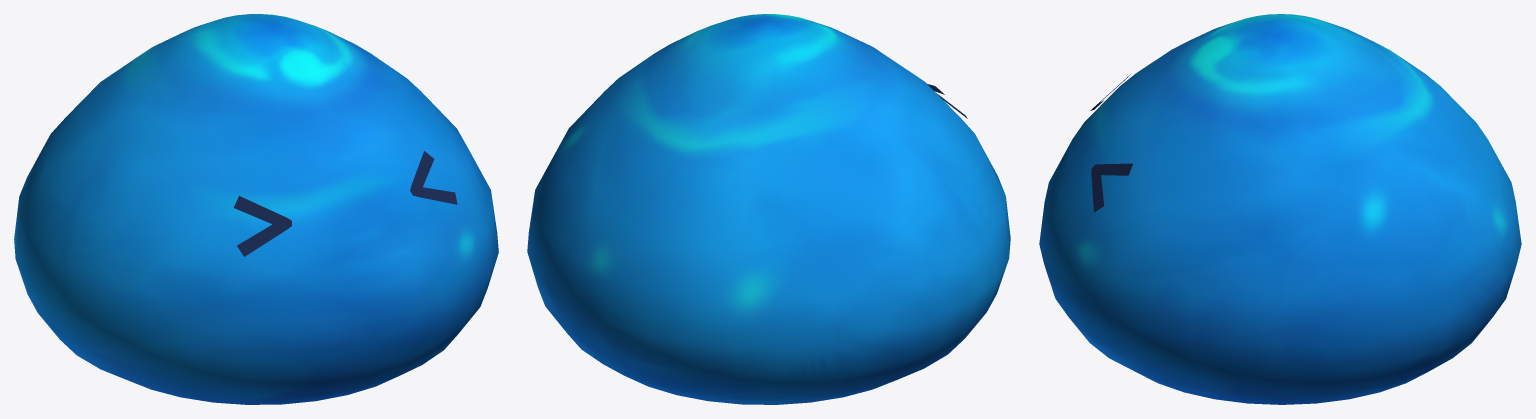
The model's file is slime_hurt.gltf.
3 renders of one model, left to right at view 1: azimuth 30°, elevation 25°; view 2: azimuth 150°, elevation 25°; view 3: azimuth 270°, elevation 25°, orthographic.
Visible parts, largest first — view 1: Slime_Slime_0; view 2: Slime_Slime_0; view 3: Slime_Slime_0.
Part boxes in pixels (left/top/right/bottom): Slime_Slime_0: left=14, top=14, right=498, bottom=404; Slime_Slime_0: left=527, top=14, right=1010, bottom=404; Slime_Slime_0: left=1039, top=14, right=1521, bottom=404.
Bounding box in the file's own units: 1.03 × 0.7421 × 1.03.
